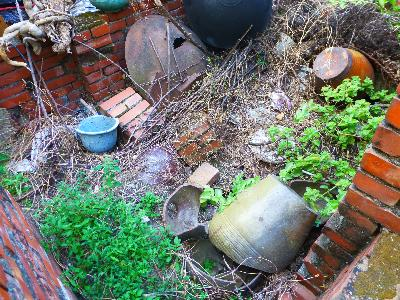bowl: (208, 176, 318, 276), (180, 1, 278, 50), (313, 45, 377, 105), (74, 113, 119, 154)
